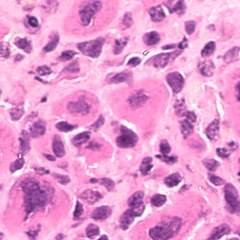New: (110, 79, 170, 128), (48, 86, 105, 129), (58, 1, 123, 38), (219, 71, 240, 136)
